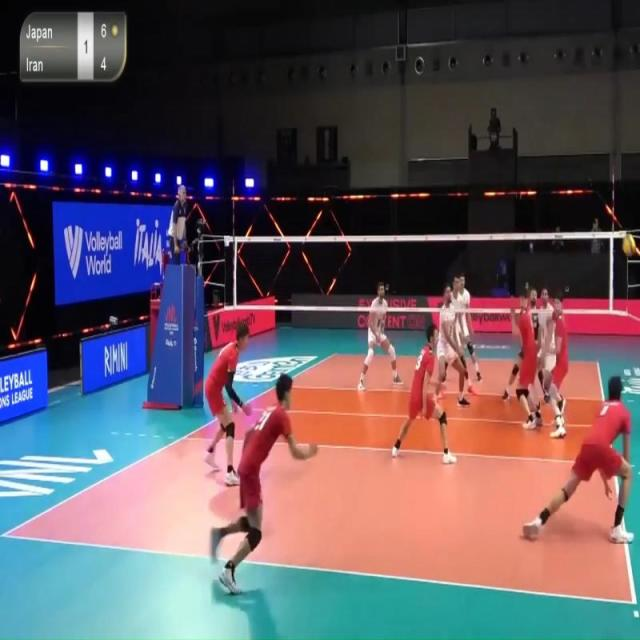volleyball: (622, 234, 636, 256)
